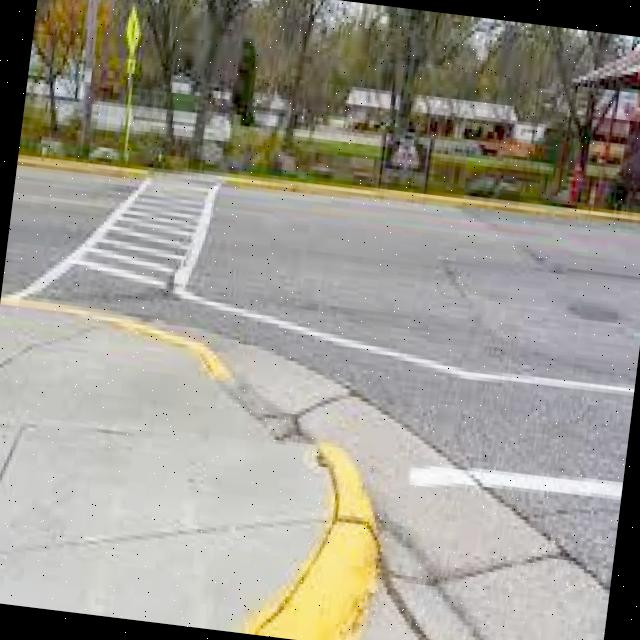curb: (254, 518, 383, 640), (315, 436, 381, 557)
